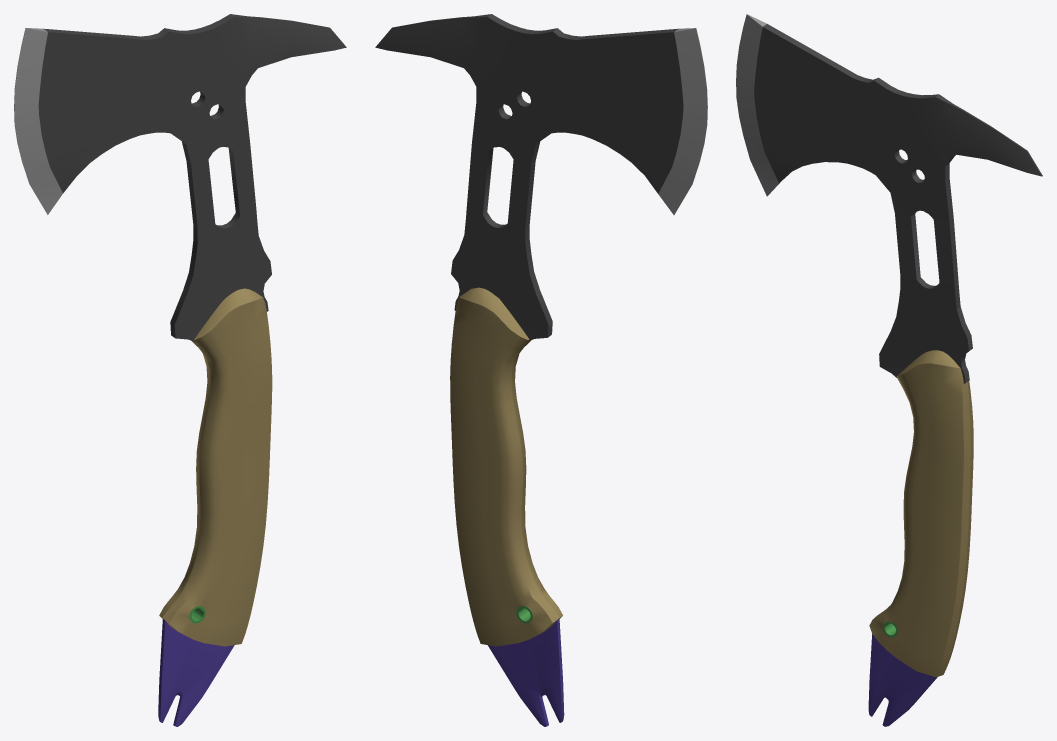
File: tacticalAxe.fbx
The picture shows the model from 3 angles, left to right: view 1: azimuth 30°, elevation 25°; view 2: azimuth 150°, elevation 25°; view 3: azimuth 330°, elevation 25°; orthographic projection. The views are drawn at different scales.
Parts seen in each view (by area): view 1: Plane.004; view 2: Plane.004; view 3: Plane.004.
Boxes of the visible parts, <box> form: Plane.004: <box>14,14,346,726</box>; Plane.004: <box>375,14,707,726</box>; Plane.004: <box>736,14,1042,726</box>.
Bounding box in the file's own units: 1315 × 2781 × 110.
